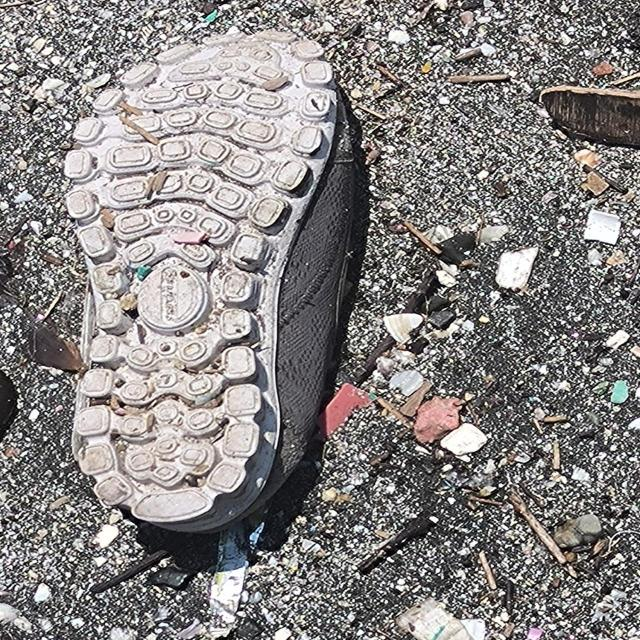rubber_waste: (69, 26, 377, 537)
